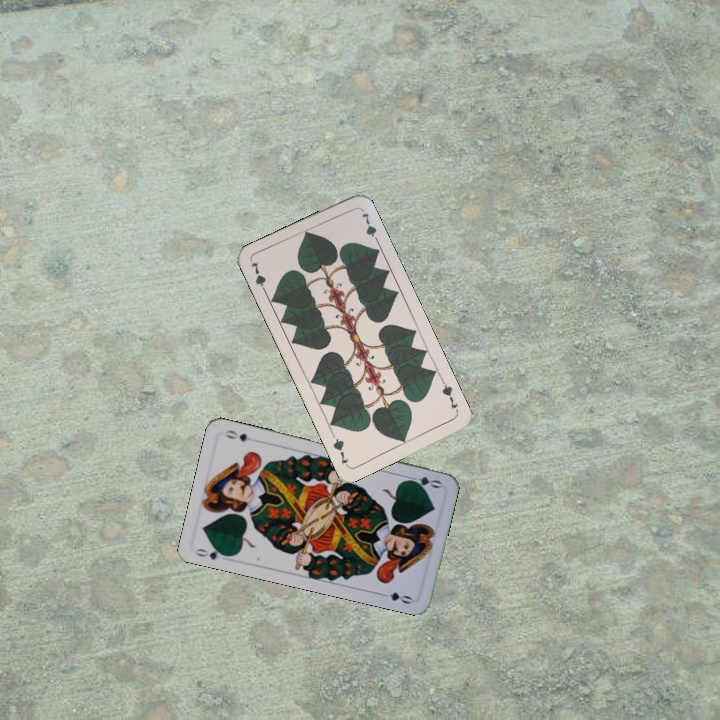G7: (246, 257, 270, 297), (438, 377, 461, 416)
GO: (402, 472, 444, 491), (192, 543, 233, 562)
